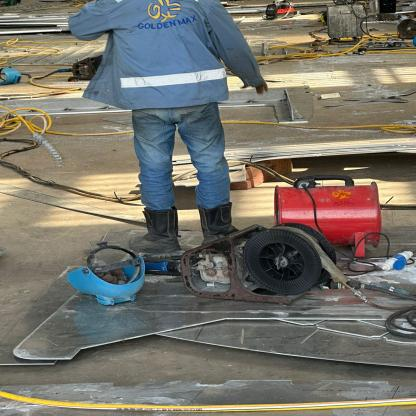bota: (116, 206, 186, 254), (193, 206, 247, 242)
